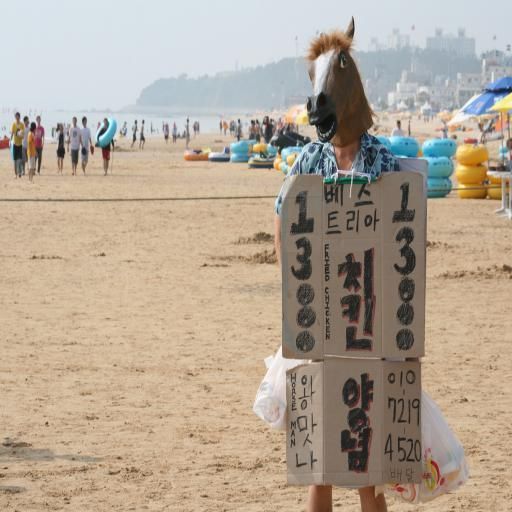horse: (304, 12, 380, 148)
